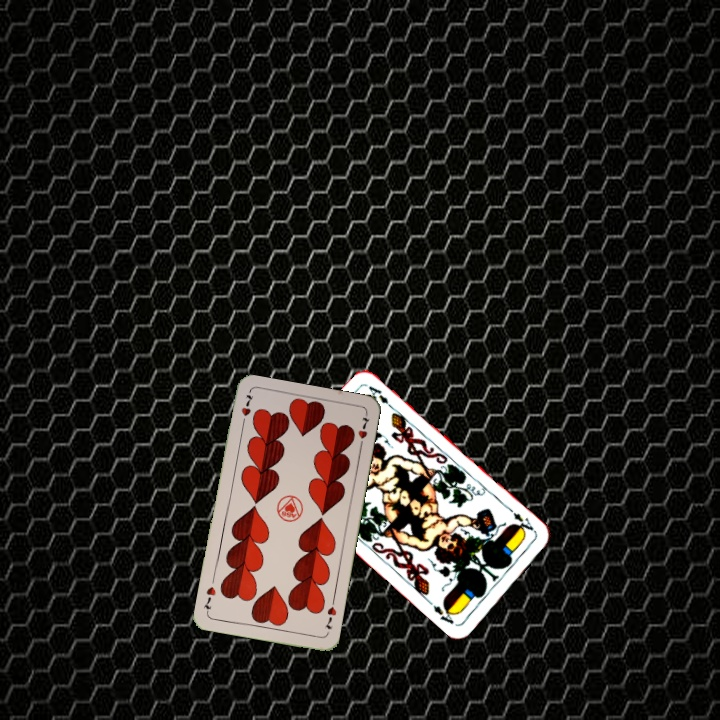EA: (505, 504, 538, 536)
H7: (237, 390, 256, 429), (321, 602, 339, 632)
